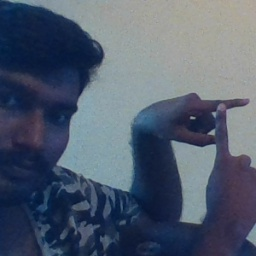T: (172, 87, 256, 186)
